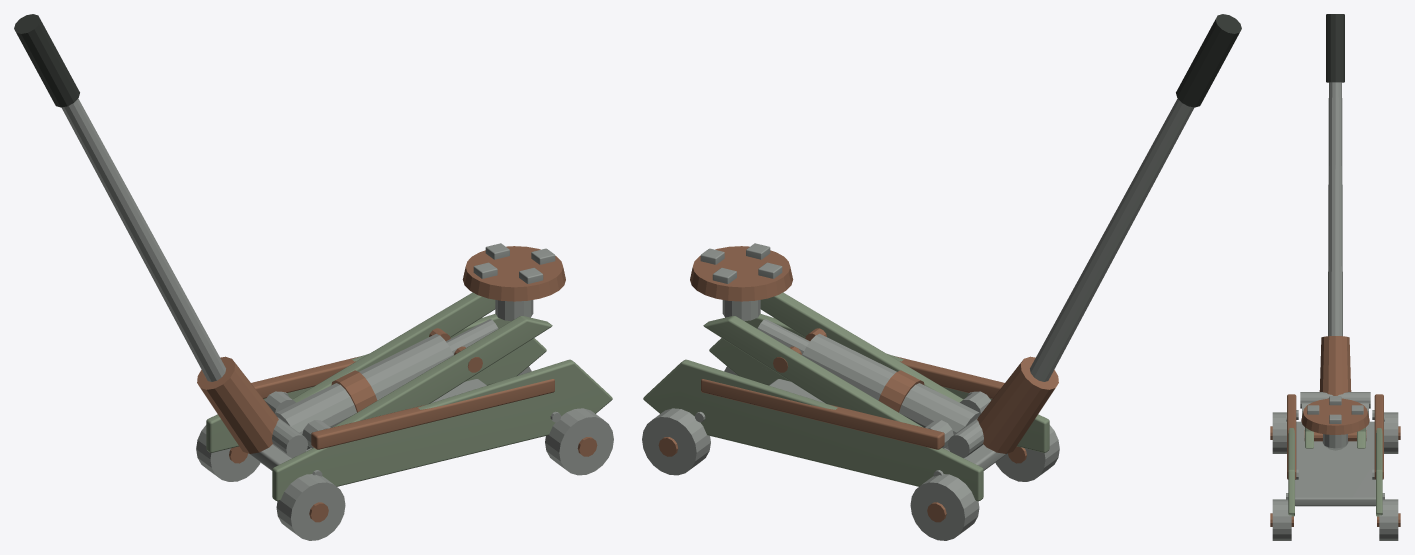
The model's file is hydraulic_jack.glb.
3 views of the same model, side by side, from view 1: azimuth 30°, elevation 25°; view 2: azimuth 150°, elevation 25°; view 3: azimuth 270°, elevation 25° (orthographic). The views are drawn at different scales.
Parts seen in each view (by area): view 1: hydraulic_jack_mesh; view 2: hydraulic_jack_mesh; view 3: hydraulic_jack_mesh.
Part boxes in pixels (bbox=[...]): hydraulic_jack_mesh: bbox=[14, 14, 613, 540]; hydraulic_jack_mesh: bbox=[642, 14, 1241, 540]; hydraulic_jack_mesh: bbox=[1270, 14, 1400, 540].
Bounding box in the file's own units: 1.13 × 1.05 × 0.342.
